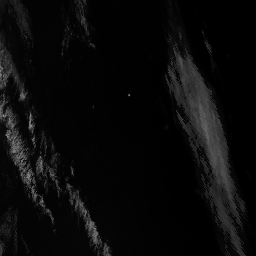Target: (126, 92, 131, 97)
